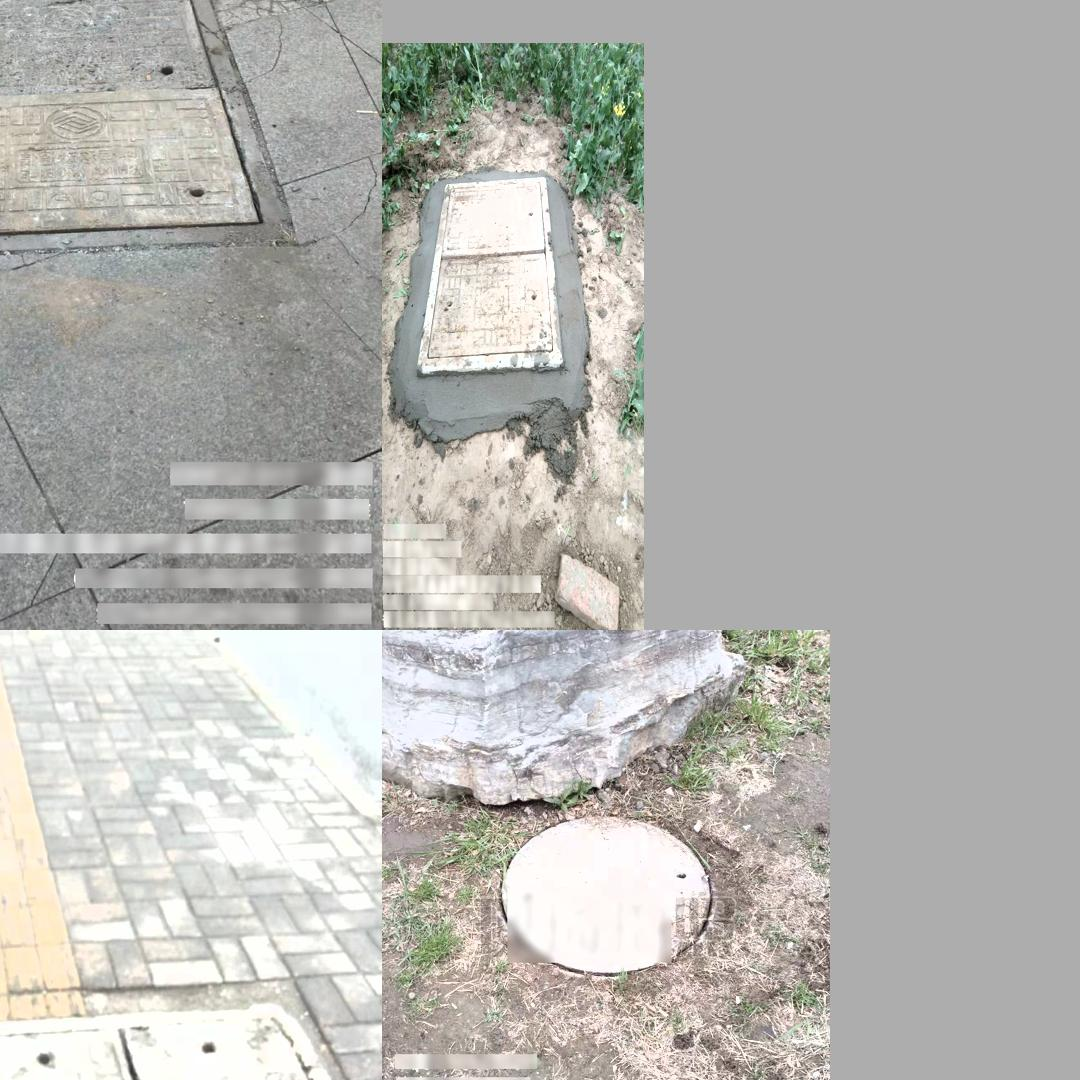good: (0, 0, 299, 253), (0, 986, 381, 1080), (504, 816, 710, 984), (416, 181, 561, 382)
